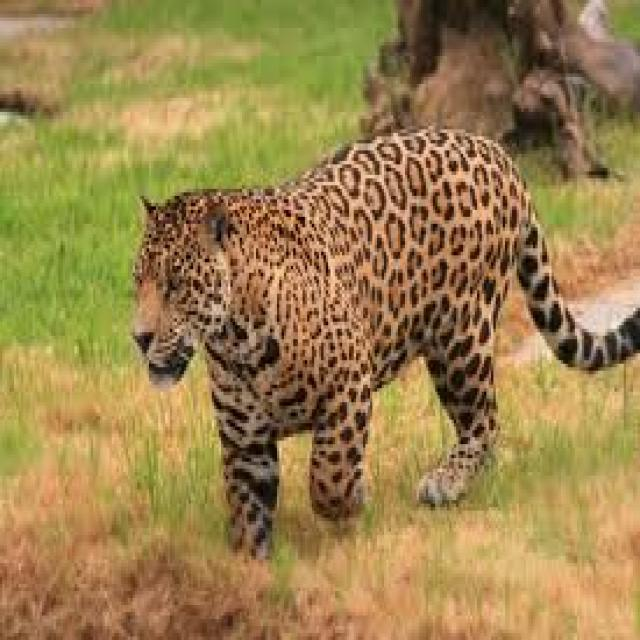Jaguar: (133, 122, 626, 521)
